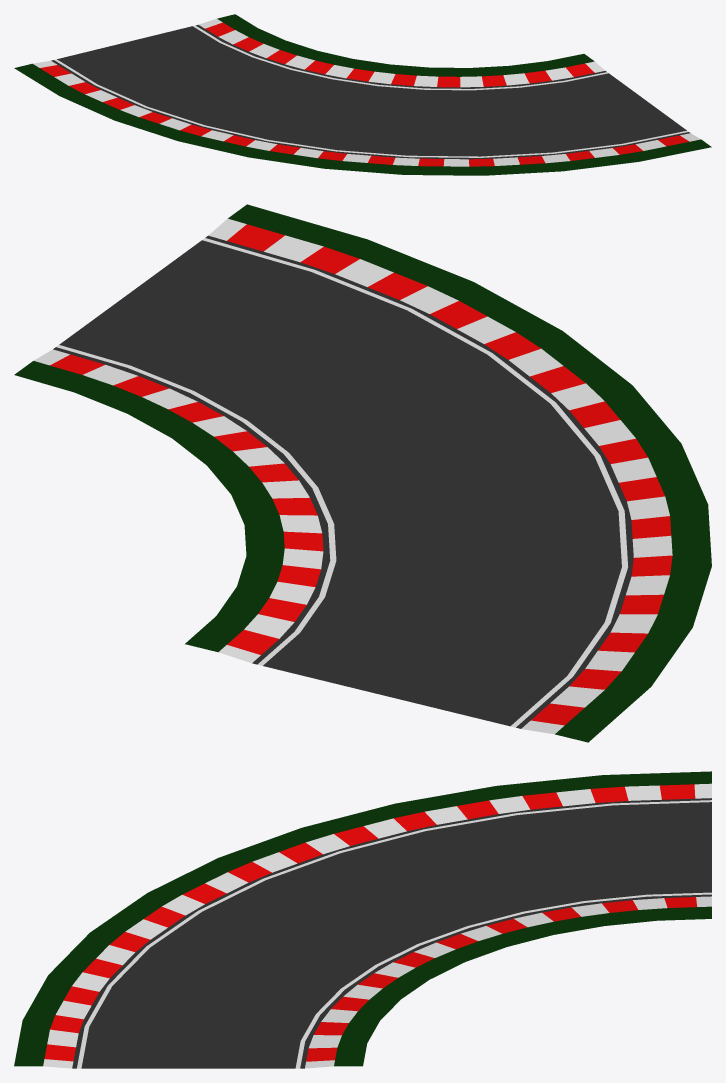
Rendered from ETC0510004.fbx.
3 views of the same model, one above another, from view 1: azimuth 30°, elevation 25°; view 2: azimuth 150°, elevation 25°; view 3: azimuth 270°, elevation 25° (orthographic). The views are drawn at different scales.
Parts seen in each view (by area): view 1: smETC0510004; view 2: smETC0510004; view 3: smETC0510004.
Boxes of the visible parts, left/top/right/bottom form: smETC0510004: left=14, top=14, right=711, bottom=175; smETC0510004: left=14, top=204, right=711, bottom=742; smETC0510004: left=14, top=771, right=711, bottom=1068.
Bounding box in the file's own units: 3600 × 12 × 3600.
Materials: 1 (1 with a texture image).
